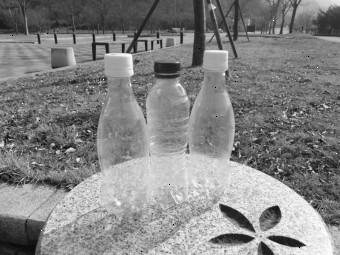bottle: (95, 50, 151, 173), (186, 46, 237, 164), (146, 56, 192, 157)
